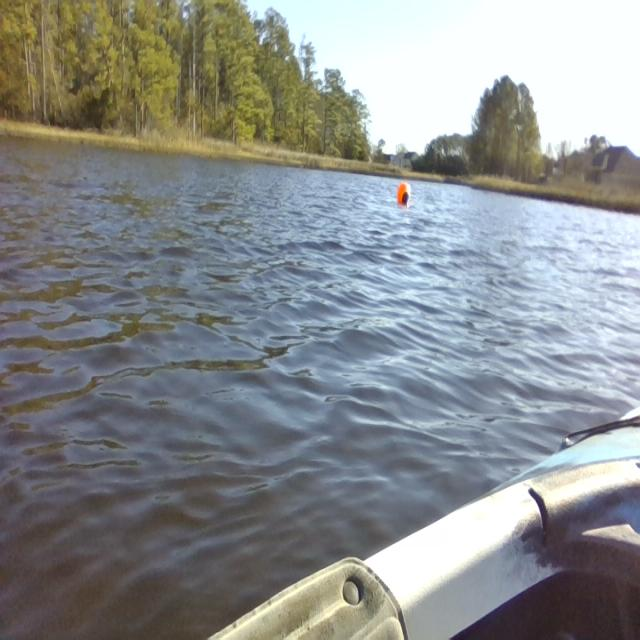Buoy: (393, 174, 414, 212)
